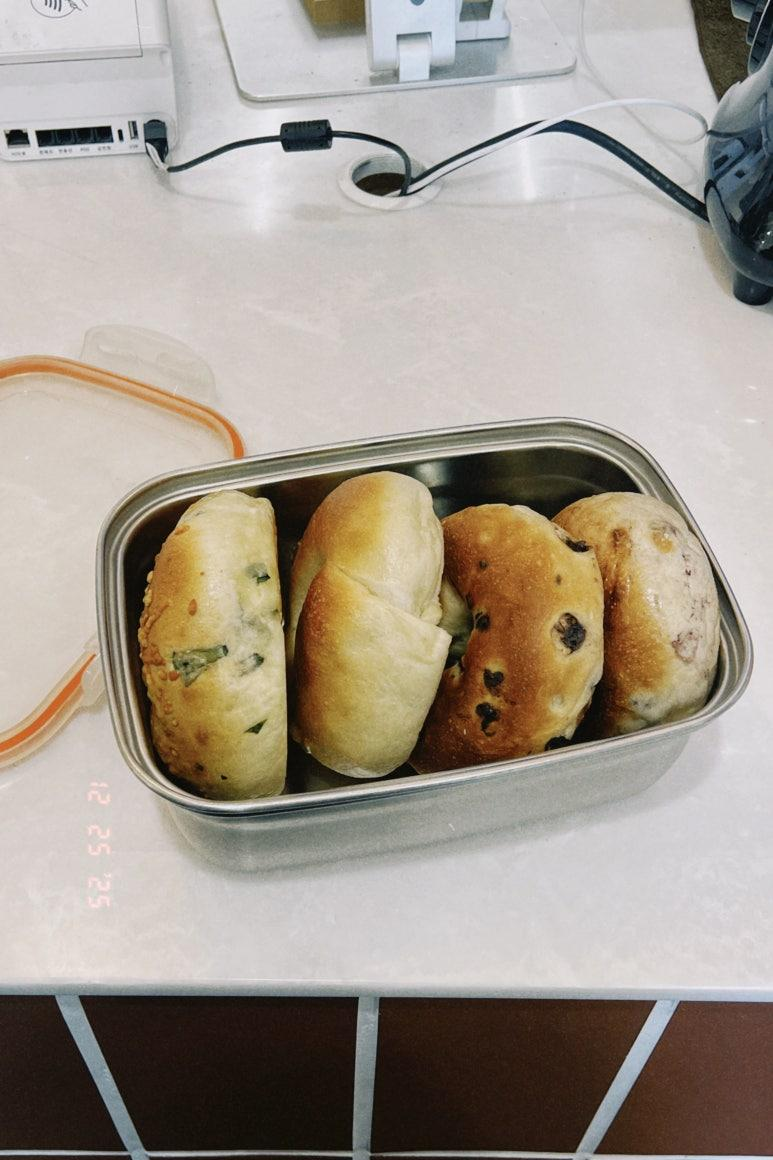Lunch Box: (0, 327, 751, 868)
